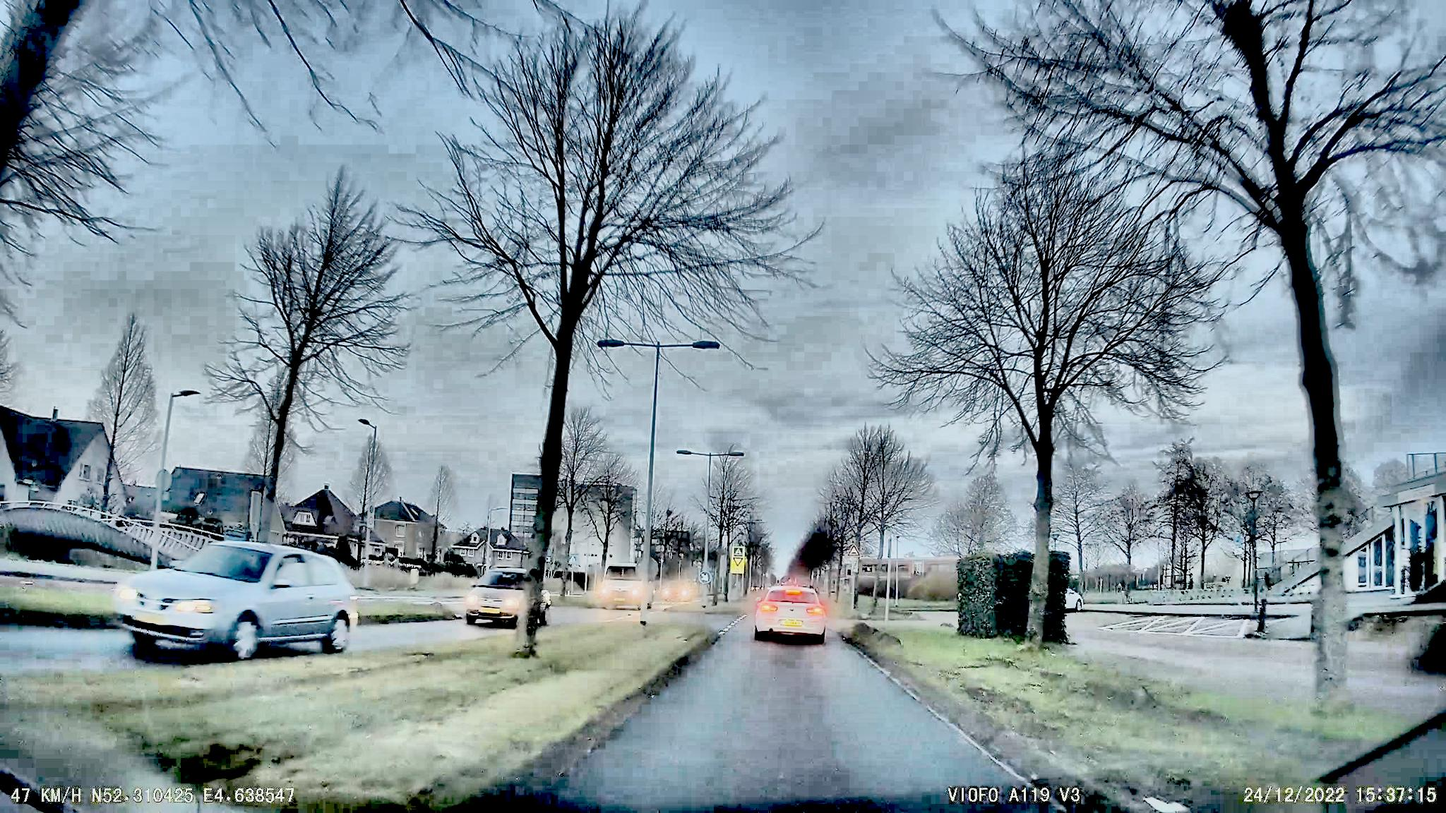Roads: (475, 615, 1148, 813)
